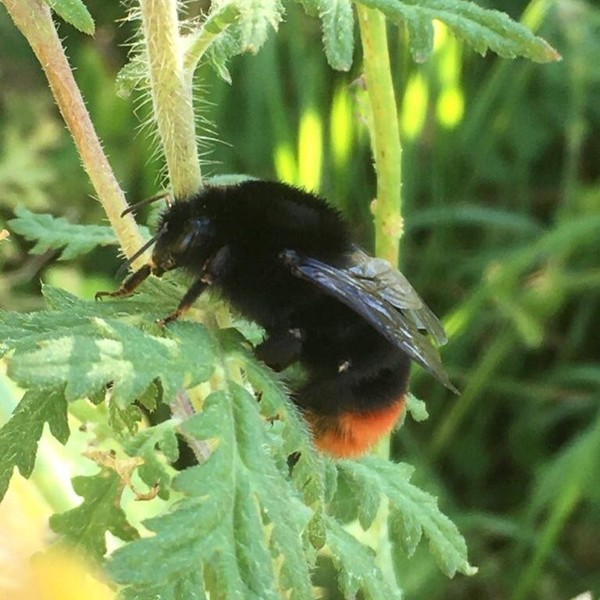obstacle: (26, 287, 293, 583)
